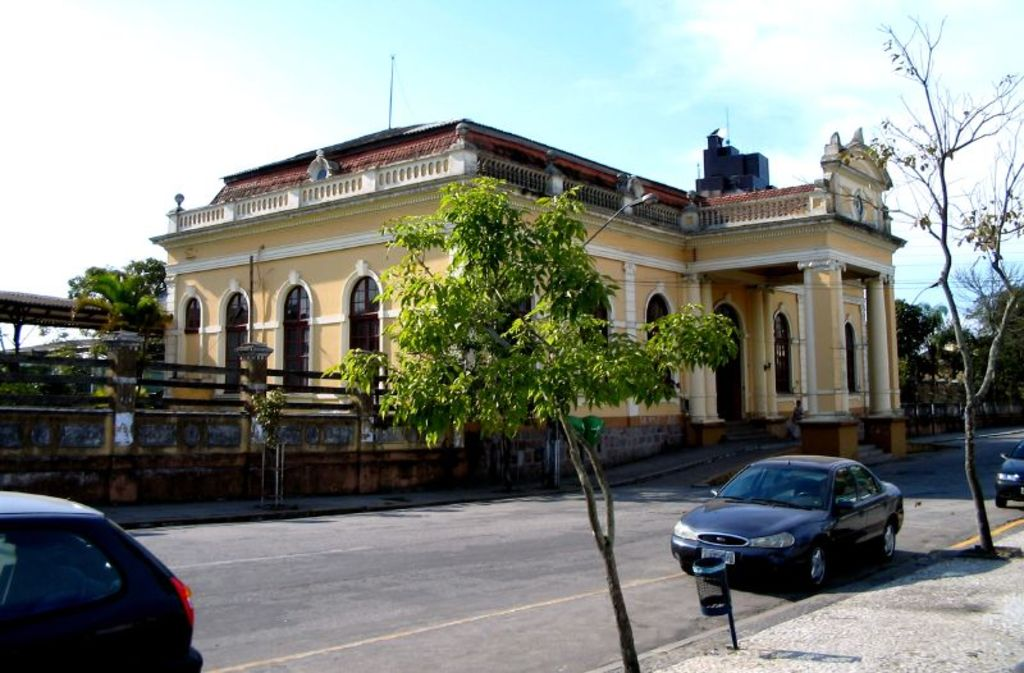mobil: (670, 453, 915, 592)
